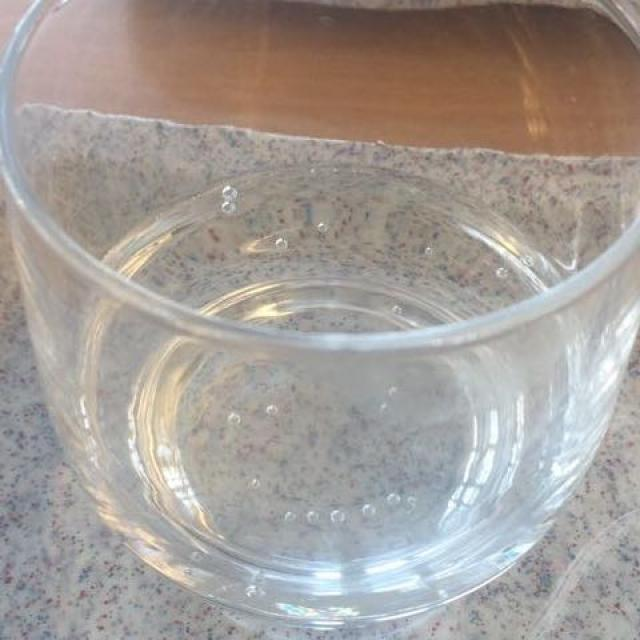water: (95, 216, 567, 582)
